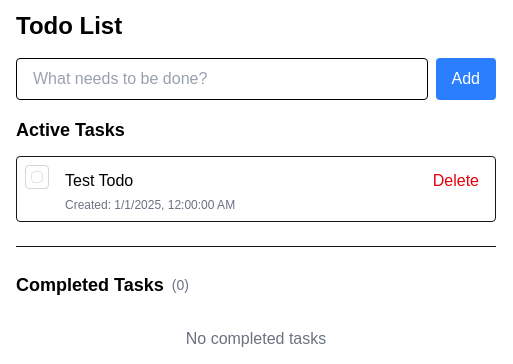
Test case: TodoList Component › Editing Todos › should save edited todo
Click the text "Test Todo" at point(99, 180), box [65, 172, 133, 189]
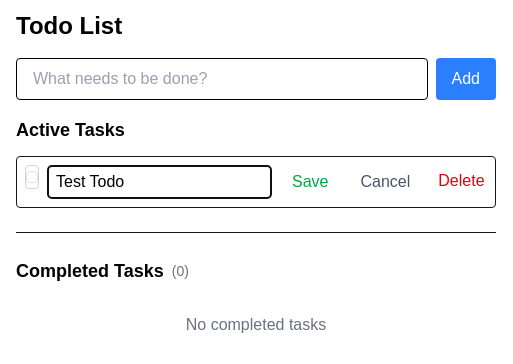
Replace the text in the field showing "Test Todo" with "Updated Todo" at point(160, 182), box [47, 165, 272, 199]
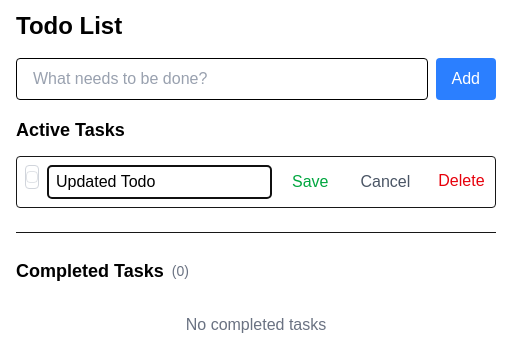
Click the button "Save" at point(310, 182), box [280, 165, 340, 199]
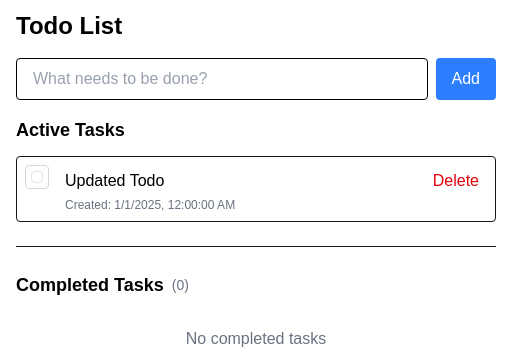
Result: the text "Updated Todo" is shown at [65, 172, 164, 189]
